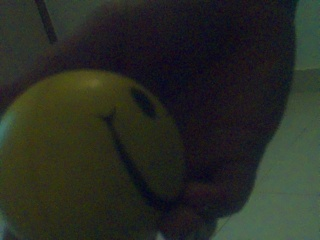ball: (0, 70, 185, 239)
